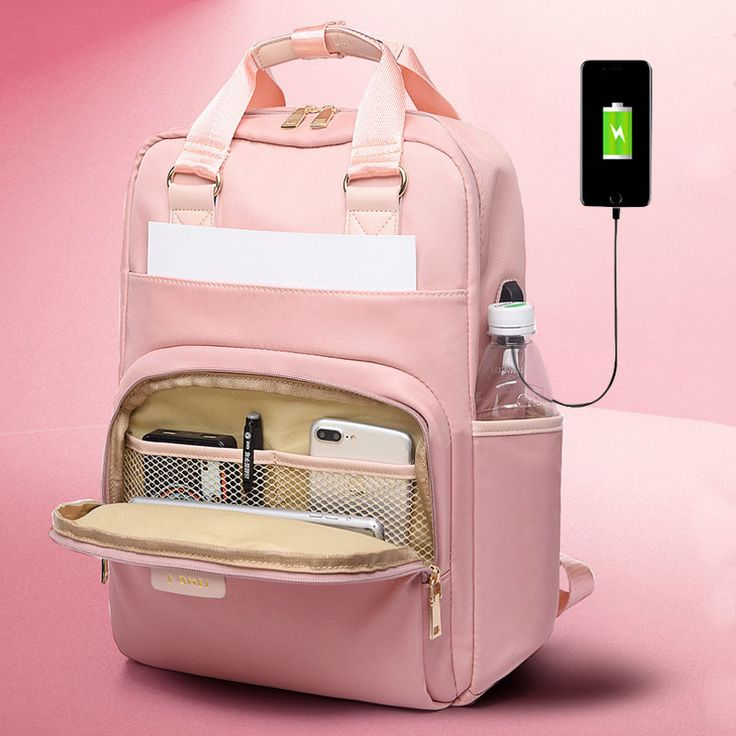nylon: (41, 21, 597, 713)
